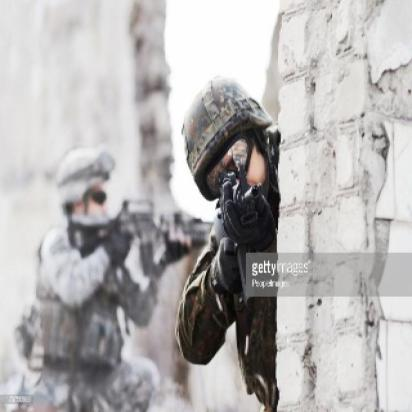Gun: (190, 163, 272, 314)
